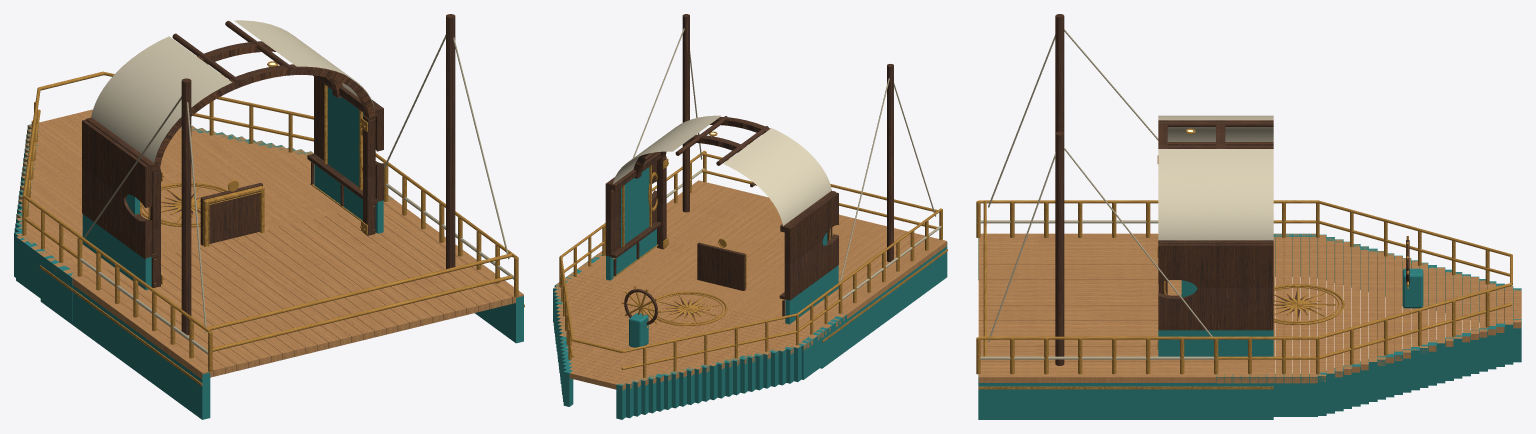
The model's file is flagship.glb.
The picture shows the model from 3 angles, left to right: view 1: azimuth 30°, elevation 25°; view 2: azimuth 150°, elevation 25°; view 3: azimuth 270°, elevation 25°; orthographic projection. The views are drawn at different scales.
Parts seen in each view (by area): view 1: SternDeck, BowDeck, CabinBay_Walnut_ribs, CabinBay_Ivory_canvas, SternDeck_Aged_brass, CabinBay_Teal_painted_hull, CabinBay, SternDeck_Teal_painted_hull, SternDeck_Walnut_ribs, BowDeck_Teal_painted_hull, BowDeck_Aged_brass, SternDeck_Hemp_rigging (+3 smaller); view 2: BowDeck, SternDeck, BowDeck_Teal_painted_hull, CabinBay_Walnut_ribs, CabinBay_Ivory_canvas, CabinBay, CabinBay_Teal_painted_hull, SternDeck_Aged_brass, BowDeck_Aged_brass, SternDeck_Walnut_ribs, SternDeck_Teal_painted_hull, ExhibitFrame_Walnut_ribs (+2 smaller); view 3: SternDeck, BowDeck, BowDeck_Teal_painted_hull, CabinBay_Ivory_canvas, CabinBay_Walnut_ribs, SternDeck_Aged_brass, SternDeck_Teal_painted_hull, BowDeck_Aged_brass, CabinBay_Teal_painted_hull, SternDeck_Walnut_ribs, SternDeck_Hemp_rigging, CabinBay (+1 smaller).
Boxes of the visible parts, left/top/right/bottom form: SternDeck: left=72, top=199, right=523, bottom=379; BowDeck: left=16, top=109, right=392, bottom=277; CabinBay_Walnut_ribs: left=82, top=21, right=383, bottom=287; CabinBay_Ivory_canvas: left=91, top=20, right=374, bottom=172; SternDeck_Aged_brass: left=71, top=161, right=524, bottom=385; CabinBay_Teal_painted_hull: left=40, top=87, right=383, bottom=347; CabinBay: left=52, top=188, right=420, bottom=306; SternDeck_Teal_painted_hull: left=72, top=284, right=523, bottom=419; SternDeck_Walnut_ribs: left=161, top=14, right=455, bottom=335; BowDeck_Teal_painted_hull: left=14, top=124, right=393, bottom=321; BowDeck_Aged_brass: left=22, top=71, right=386, bottom=262; SternDeck_Hemp_rigging: left=79, top=34, right=513, bottom=354; BowDeck: left=554, top=254, right=845, bottom=390; SternDeck: left=598, top=180, right=946, bottom=317; BowDeck_Teal_painted_hull: left=553, top=255, right=846, bottom=419; CabinBay_Walnut_ribs: left=605, top=116, right=838, bottom=316; CabinBay_Ivory_canvas: left=612, top=115, right=831, bottom=232; CabinBay: left=580, top=247, right=870, bottom=329; CabinBay_Teal_painted_hull: left=606, top=167, right=870, bottom=368; SternDeck_Aged_brass: left=602, top=150, right=947, bottom=325; BowDeck_Aged_brass: left=559, top=224, right=841, bottom=377; SternDeck_Walnut_ribs: left=664, top=14, right=893, bottom=319; SternDeck_Teal_painted_hull: left=871, top=242, right=947, bottom=332; ExhibitFrame_Walnut_ribs: left=697, top=242, right=745, bottom=290; SternDeck: left=978, top=233, right=1215, bottom=382; BowDeck: left=1216, top=233, right=1521, bottom=383; BowDeck_Teal_painted_hull: left=1216, top=233, right=1521, bottom=416; CabinBay_Ivory_canvas: left=1158, top=115, right=1273, bottom=240; CabinBay_Walnut_ribs: left=1158, top=120, right=1273, bottom=330; SternDeck_Aged_brass: left=976, top=200, right=1344, bottom=389; SternDeck_Teal_painted_hull: left=978, top=238, right=1195, bottom=419; BowDeck_Aged_brass: left=1216, top=200, right=1512, bottom=374; CabinBay_Teal_painted_hull: left=1158, top=280, right=1273, bottom=419; SternDeck_Walnut_ribs: left=1055, top=14, right=1317, bottom=365; SternDeck_Hemp_rigging: left=980, top=29, right=1214, bottom=359; CabinBay: left=1158, top=280, right=1273, bottom=382.
Size of the model in its own units: 10.04 by 8.9 by 16.07.
9 materials, 6 textured.
